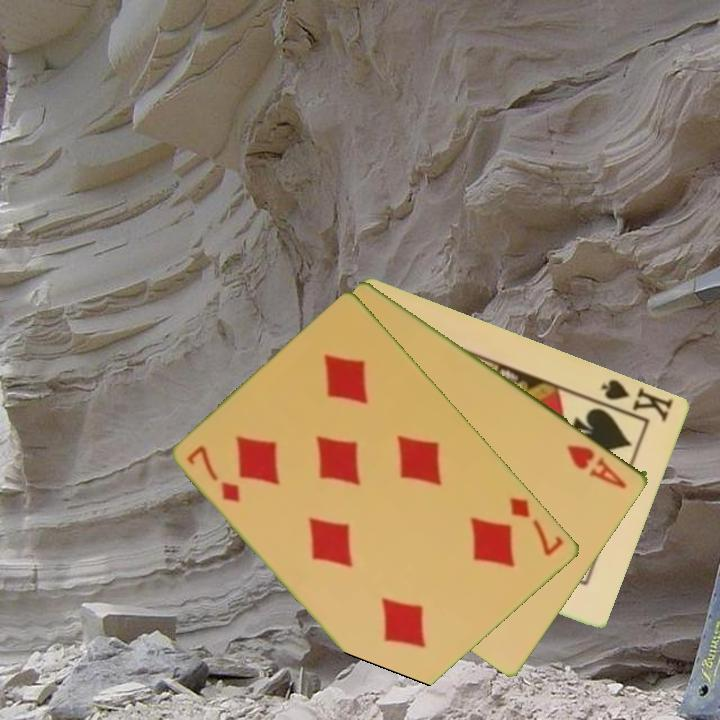7d: (506, 493, 567, 560), (184, 442, 244, 506)
Ah: (564, 440, 631, 492)
Ks: (598, 375, 677, 425)
